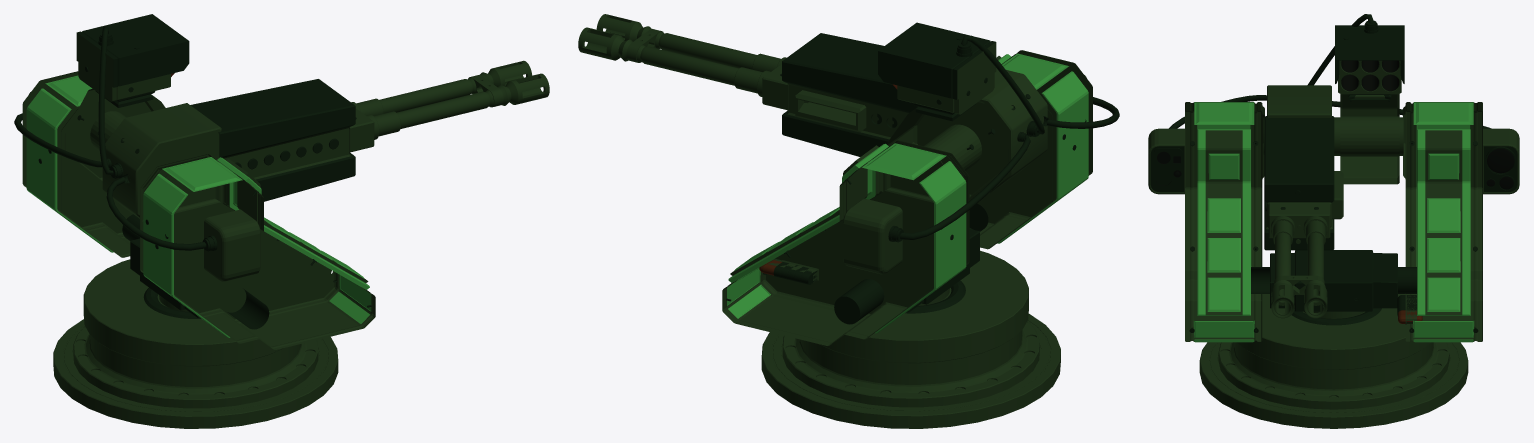
The model's file is simple.obj.
3 renders of one model, left to right at view 1: azimuth 30°, elevation 25°; view 2: azimuth 150°, elevation 25°; view 3: azimuth 270°, elevation 25°, orthographic. The views are drawn at different scales.
Visible parts, largest first — view 1: Cylinder.005_Material.001_0, Plane.013_Material.001_0, Plane.016_Material.001_0, Plane.013_Material.004_0, Plane.016_Material.002_0, Cube.003_Material.002_0, Plane.014_Material.001_0, Cylinder.005_Material.002_0, Cube.003_Material.001_0, object 1, object 2; view 2: Cylinder.005_Material.001_0, Plane.013_Material.001_0, Plane.016_Material.001_0, Plane.013_Material.004_0, Plane.016_Material.002_0, Cube.003_Material.002_0, Plane.014_Material.001_0, Cylinder.005_Material.002_0, Cube.003_Material.001_0, object 1, object 2, Cylinder.011_Material.002_0; view 3: Cylinder.005_Material.001_0, Plane.013_Material.004_0, Plane.013_Material.001_0, Plane.016_Material.001_0, Cylinder.005_Material.002_0, Plane.016_Material.002_0, Plane.014_Material.001_0, Cube.003_Material.002_0, Plane.013_Material.002_0, Cube.010_Material.005_0, Cube.003_Material.001_0, Plane.015_Material.002_0 (+4 smaller).
Boxes of the visible parts, bbox=[...] form: Cylinder.005_Material.001_0: bbox=[53, 259, 338, 428]; Plane.013_Material.001_0: bbox=[22, 71, 375, 349]; Plane.016_Material.001_0: bbox=[102, 60, 549, 218]; Plane.013_Material.004_0: bbox=[26, 75, 371, 337]; Plane.016_Material.002_0: bbox=[120, 79, 356, 201]; Cube.003_Material.002_0: bbox=[77, 14, 189, 107]; Plane.014_Material.001_0: bbox=[64, 88, 165, 180]; Cylinder.005_Material.002_0: bbox=[122, 214, 269, 329]; Cube.003_Material.001_0: bbox=[76, 33, 170, 101]; object 1: bbox=[14, 113, 206, 250]; object 2: bbox=[98, 26, 113, 174]; Cylinder.005_Material.001_0: bbox=[761, 250, 1060, 428]; Plane.013_Material.001_0: bbox=[722, 50, 1092, 345]; Plane.016_Material.001_0: bbox=[578, 14, 1047, 193]; Plane.013_Material.004_0: bbox=[727, 53, 1088, 333]; Plane.016_Material.002_0: bbox=[780, 33, 1030, 156]; Cube.003_Material.002_0: bbox=[878, 22, 995, 121]; Plane.014_Material.001_0: bbox=[886, 101, 1008, 197]; Cylinder.005_Material.002_0: bbox=[834, 203, 988, 324]; Cube.003_Material.001_0: bbox=[897, 42, 996, 114]; object 1: bbox=[900, 97, 1119, 239]; object 2: bbox=[961, 35, 1044, 134]; Cylinder.011_Material.002_0: bbox=[773, 262, 817, 284]; Cylinder.005_Material.001_0: bbox=[1199, 294, 1468, 428]; Plane.013_Material.004_0: bbox=[1193, 102, 1474, 342]; Plane.013_Material.001_0: bbox=[1148, 102, 1519, 341]; Plane.016_Material.001_0: bbox=[1265, 85, 1343, 318]; Cylinder.005_Material.002_0: bbox=[1251, 250, 1416, 325]; Plane.016_Material.002_0: bbox=[1264, 116, 1334, 250]; Plane.014_Material.001_0: bbox=[1340, 94, 1399, 184]; Cube.003_Material.002_0: bbox=[1335, 25, 1404, 100]; Plane.013_Material.002_0: bbox=[1150, 141, 1517, 332]; Cube.010_Material.005_0: bbox=[1341, 60, 1398, 91]; Cube.003_Material.001_0: bbox=[1338, 60, 1401, 98]; Plane.015_Material.002_0: bbox=[1153, 148, 1182, 190].
Size of the model in its own units: 5.27 by 3.84 by 3.97.
